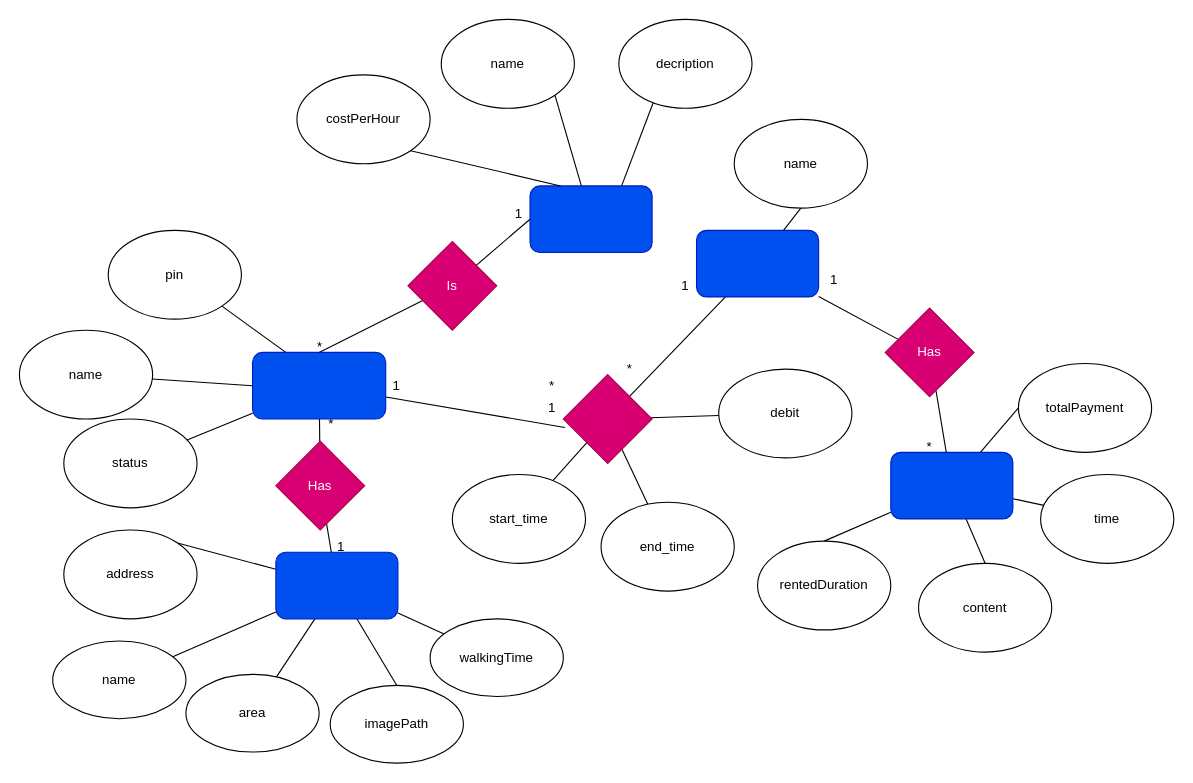
Image size: 1193x783. Some labels were removed from this diagram. The shapes that lost their labels are listed below. From the top down, each one's centre as x and y in pixels, then its label:
the point at 590,219: Category
the point at 757,263: User
the point at 318,385: Bike
the point at 607,418: rent
the point at 951,485: Transaction
the point at 336,585: station
